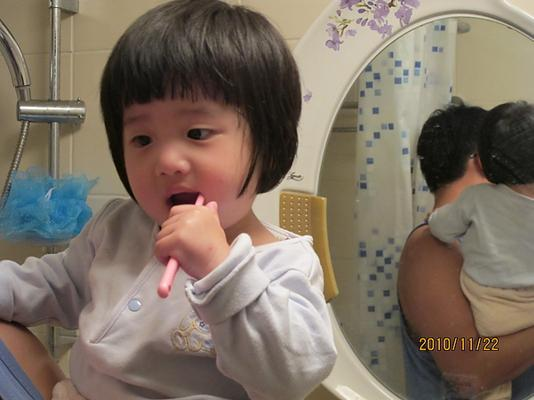person: (1, 2, 338, 400)
